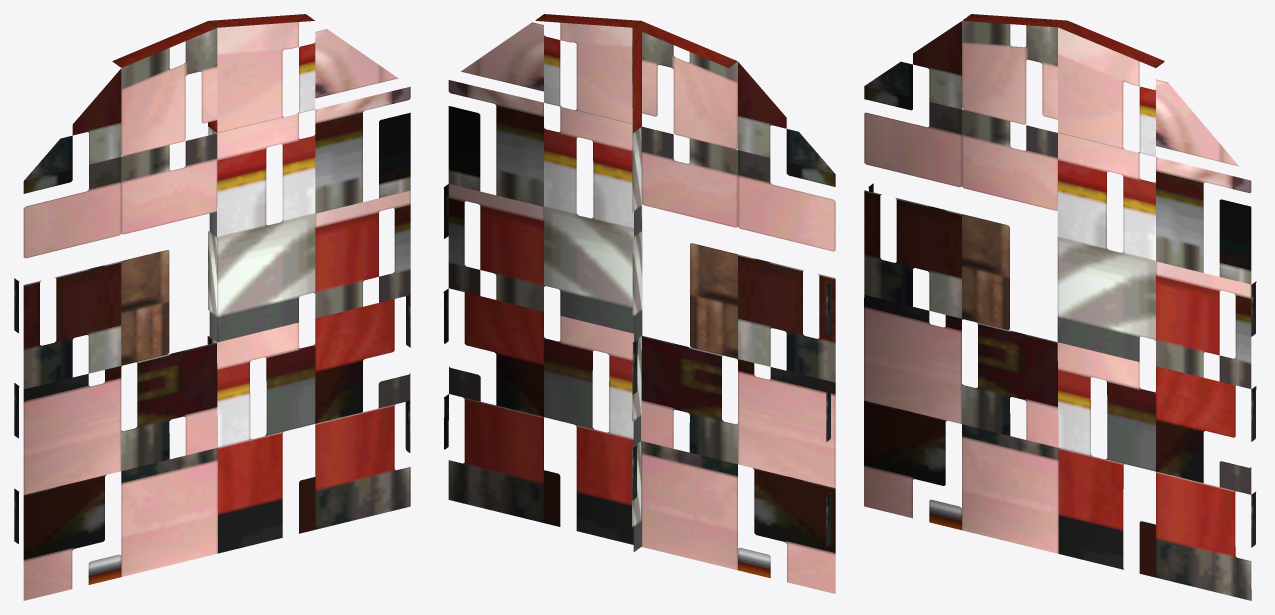
3 renders of one model, left to right at view 1: azimuth 30°, elevation 25°; view 2: azimuth 150°, elevation 25°; view 3: azimuth 330°, elevation 25°, orthographic.
Visible parts, largest first — view 1: T1L7M001_2; view 2: T1L7M001_2; view 3: T1L7M001_2.
Part boxes in pixels (box(x1,y1,x2,y2)): T1L7M001_2: box(14, 14, 410, 600); T1L7M001_2: box(443, 14, 835, 593); T1L7M001_2: box(864, 14, 1256, 600).
Size of the model in its own units: 4.78 by 6.2 by 0.2023.
